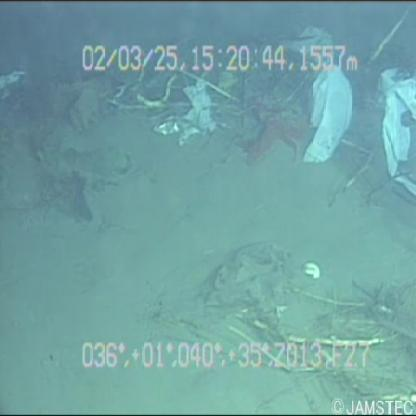Rác: (266, 24, 360, 170), (148, 68, 227, 155), (374, 49, 416, 201)
